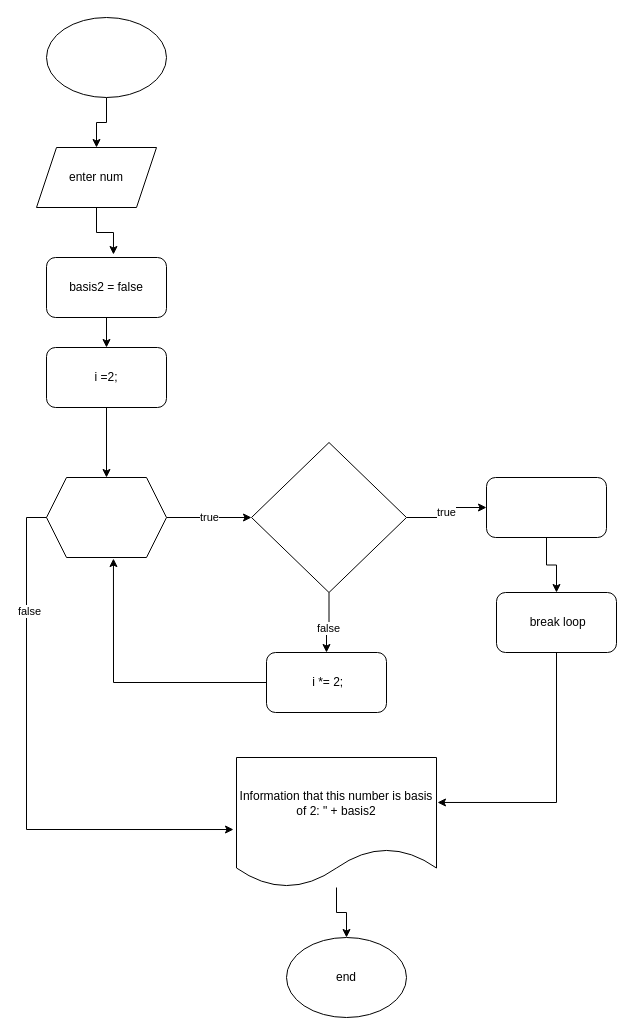
Image size: 634x1035. Some labels were removed from this diagram. The centre of each missing label's shape, as x and y in pixels:
basis2 = true: the point at 546,507
i <= num: the point at 106,517
i = num: the point at 328,517
start: the point at 106,57
